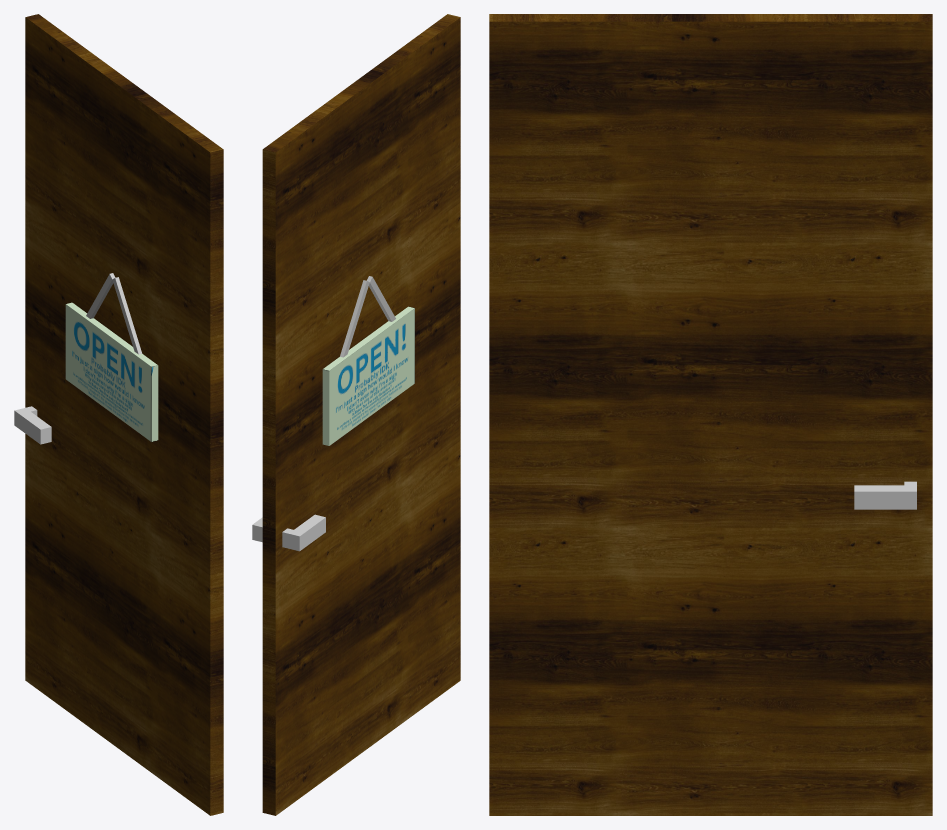
File: Cafe Door.fbx
The picture shows the model from 3 angles, left to right: view 1: azimuth 30°, elevation 25°; view 2: azimuth 150°, elevation 25°; view 3: azimuth 270°, elevation 25°; orthographic projection. The views are drawn at different scales.
Parts seen in each view (by area): view 1: Door, Open_Sign, O_Door_Handle, Open_Rope1, Open_Rope; view 2: Door, Open_Sign, O_Door_Handle, Open_Rope, Open_Rope1; view 3: Door, I_Door_Handle.
Boxes of the visible parts, left/top/right/bottom form: Door: left=25, top=14, right=223, bottom=815; Open_Sign: left=65, top=302, right=158, bottom=441; O_Door_Handle: left=14, top=406, right=51, bottom=444; Open_Rope1: left=112, top=277, right=142, bottom=354; Open_Rope: left=86, top=273, right=115, bottom=318; Door: left=262, top=14, right=460, bottom=815; Open_Sign: left=322, top=306, right=414, bottom=445; O_Door_Handle: left=282, top=514, right=325, bottom=551; Open_Rope: left=340, top=280, right=369, bottom=357; Open_Rope1: left=367, top=276, right=395, bottom=321; Door: left=489, top=14, right=932, bottom=815; I_Door_Handle: left=854, top=481, right=916, bottom=509.
Bounding box in the file's own units: 3.31 × 44.08 × 22.28.
Materials: 4 (2 with a texture image).
